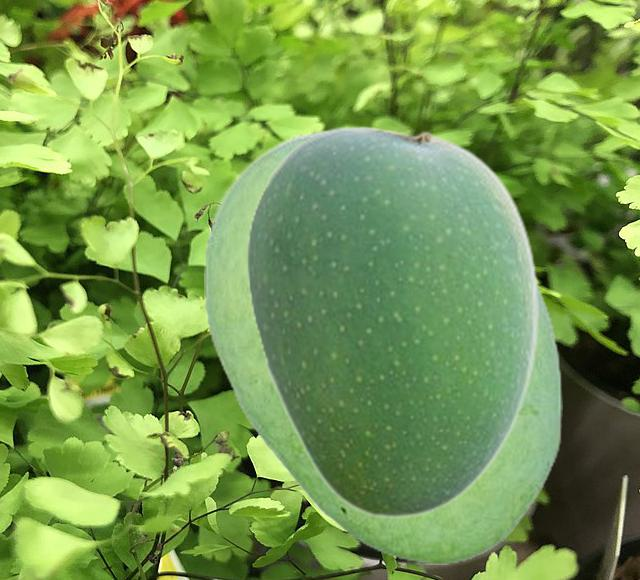green_mango: (204, 125, 561, 563), (246, 125, 539, 517)
